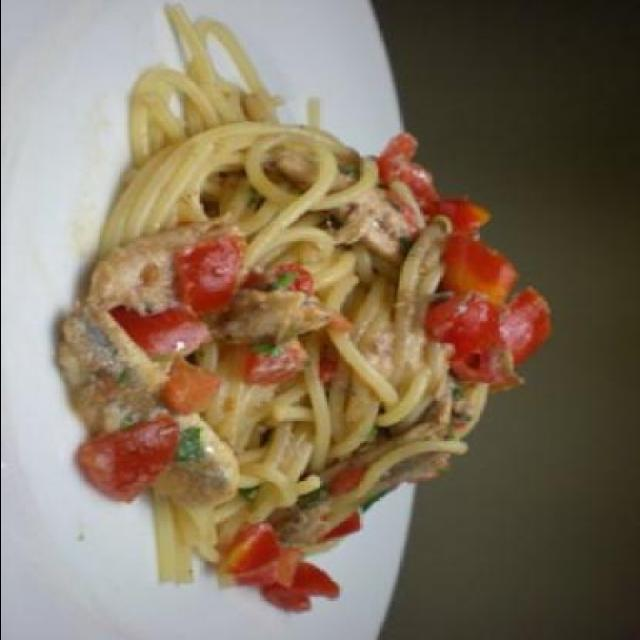Oil pasta: (23, 116, 571, 612)
